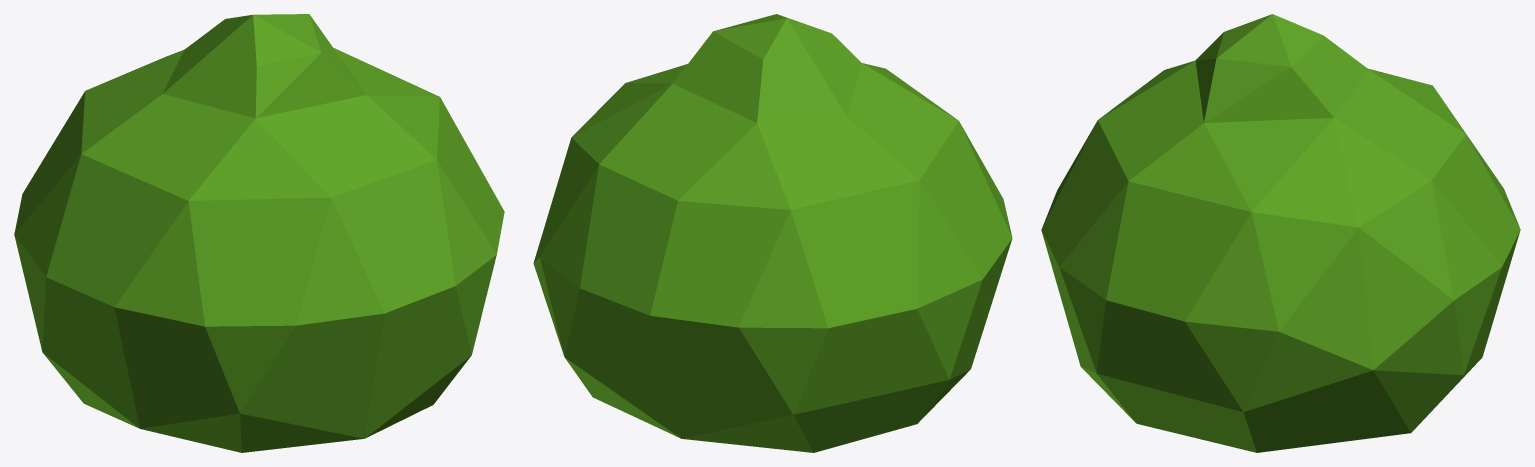
File: Lime.fbx
3 views of the same model, side by side, from view 1: azimuth 30°, elevation 25°; view 2: azimuth 150°, elevation 25°; view 3: azimuth 270°, elevation 25° (orthographic). The views are drawn at different scales.
Parts seen in each view (by area): view 1: Lime; view 2: Lime; view 3: Lime.
Part boxes in pixels (x1,y1,x2,y2): Lime: (14, 14, 504, 452); Lime: (533, 14, 1012, 452); Lime: (1041, 14, 1520, 452).
Size of the model in its own units: 8.98 by 8.73 by 8.92.
